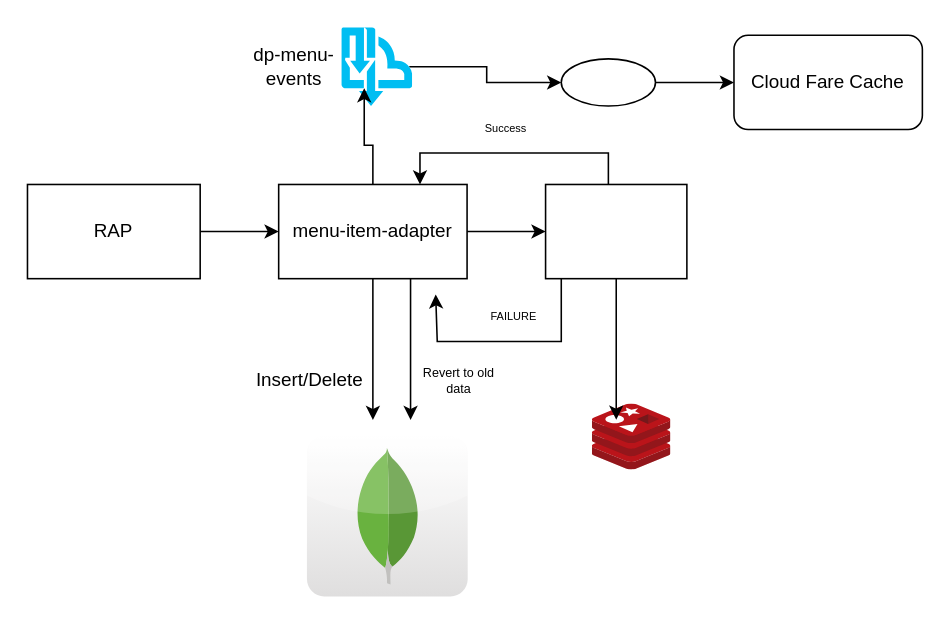
Image size: 950x623. Some labels were removed from this diagram. Here are the shapes that lost their labels. From the top down, the centre of each, then its label:
At point (607, 81): "web-exp-api".
At point (615, 231): "item-processor".
